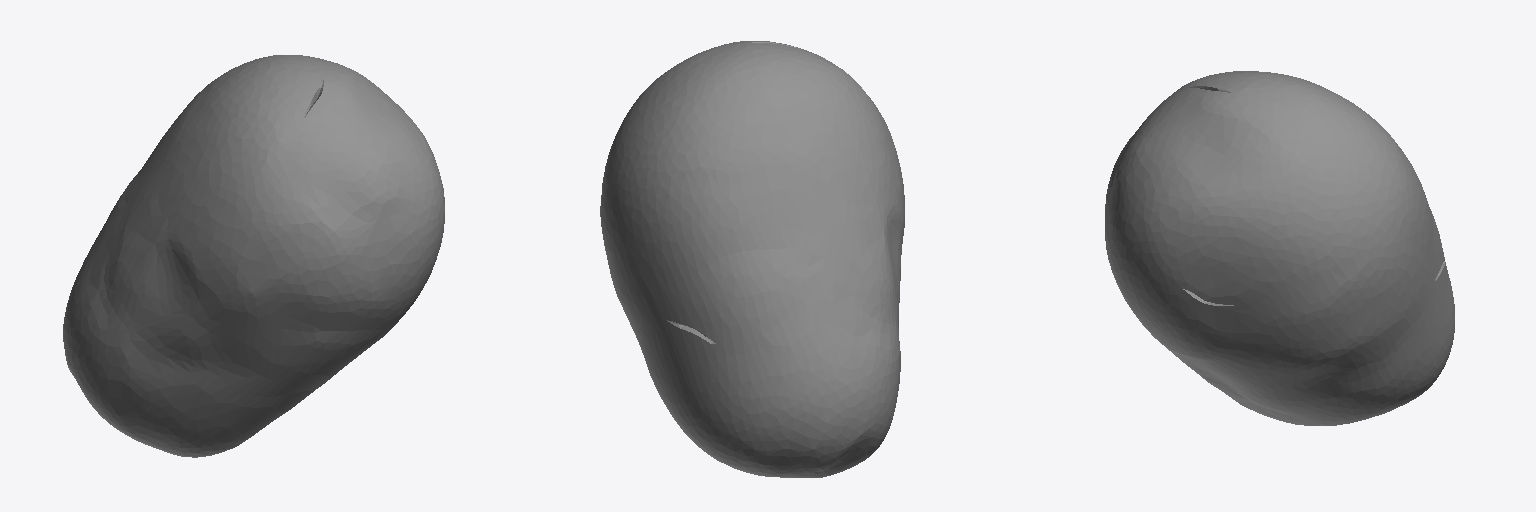
3 views of the same model, side by side, from view 1: azimuth 30°, elevation 25°; view 2: azimuth 150°, elevation 25°; view 3: azimuth 270°, elevation 25° (orthographic).
Visible parts, largest first — view 1: Potato_1; view 2: Potato_1; view 3: Potato_1.
Boxes of the visible parts, x1=… form: Potato_1: x1=63, y1=55, x2=444, y2=457; Potato_1: x1=600, y1=41, x2=904, y2=477; Potato_1: x1=1105, y1=71, x2=1454, y2=425.
Bounding box in the file's own units: 60.43 × 73.68 × 62.34.